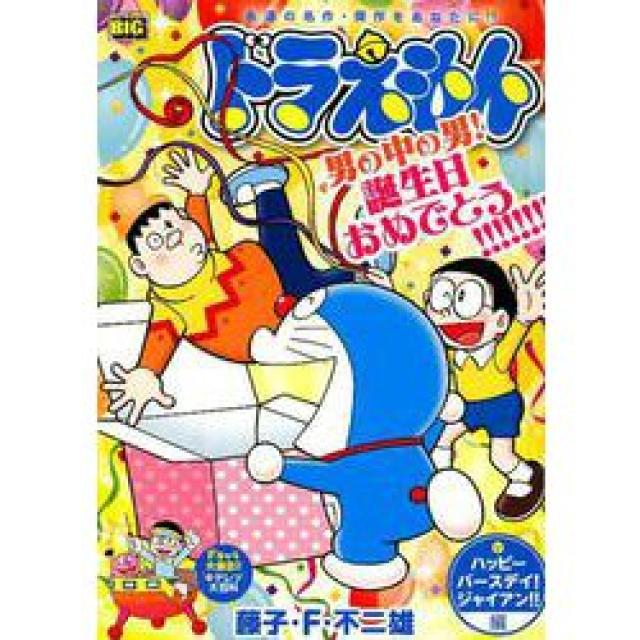doraemon: (240, 279, 456, 486)
jaian: (113, 187, 256, 320)
nobita: (415, 245, 530, 364)
